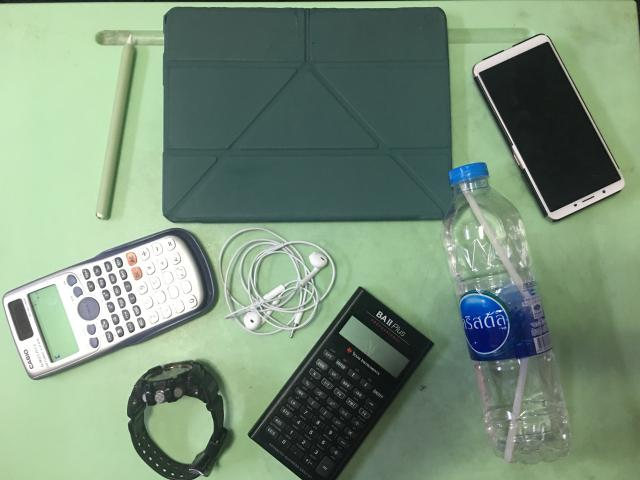Mobile phone: (472, 35, 625, 220)
Watch: (128, 361, 228, 479)
bottle: (444, 162, 571, 464)
wire: (220, 228, 336, 338)
